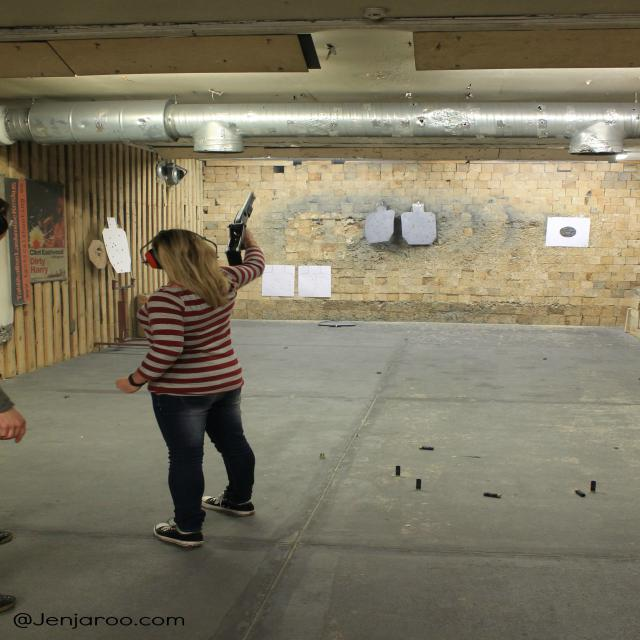handgun: (224, 190, 261, 265)
